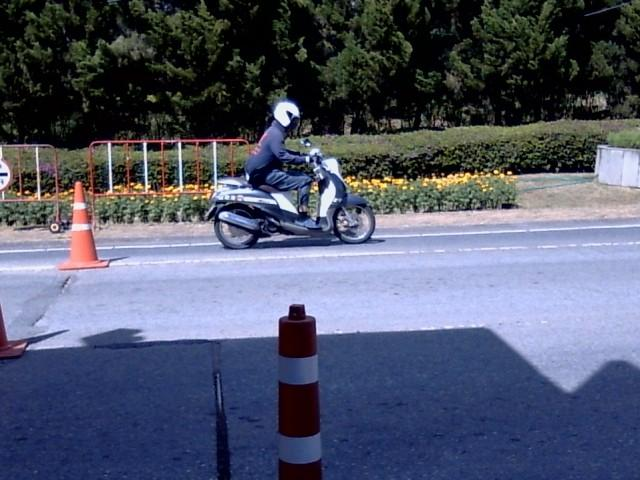helmet: (271, 96, 301, 130)
motor: (205, 148, 375, 248)
person: (245, 100, 315, 227)
